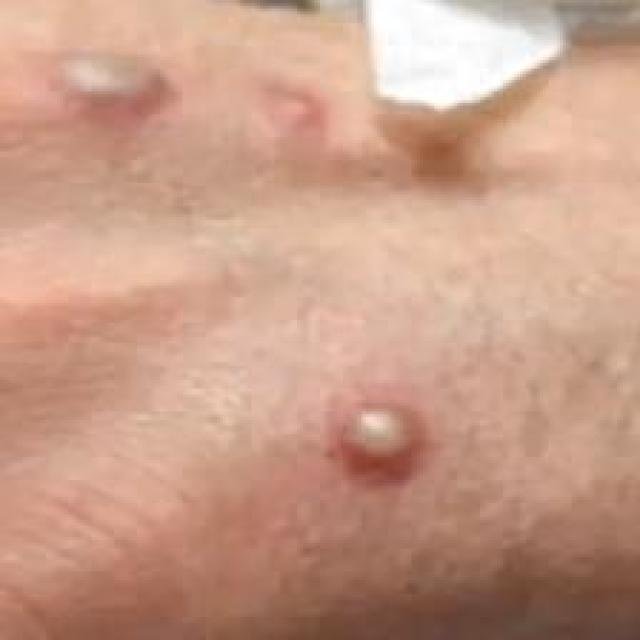monkeypox: (27, 35, 582, 621)
